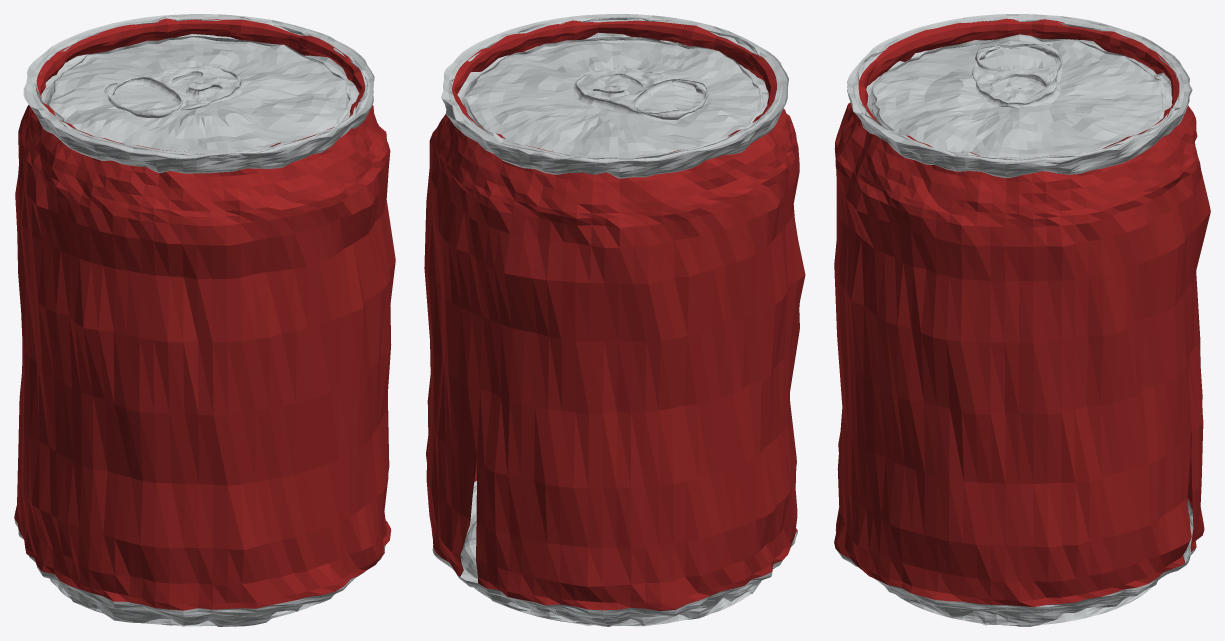
Rendered from crush_low_1.obj.
3 views of the same model, side by side, from view 1: azimuth 30°, elevation 25°; view 2: azimuth 150°, elevation 25°; view 3: azimuth 270°, elevation 25° (orthographic).
Parts seen in each view (by area): view 1: model; view 2: model; view 3: model.
Part boxes in pixels (x1,y1,x2,y2): model: (14, 14, 395, 626); model: (424, 14, 805, 626); model: (834, 14, 1210, 626).
Bounding box in the file's own units: 0.0667 × 0.0945 × 0.0671.
Materials: 1 (1 with a texture image).
